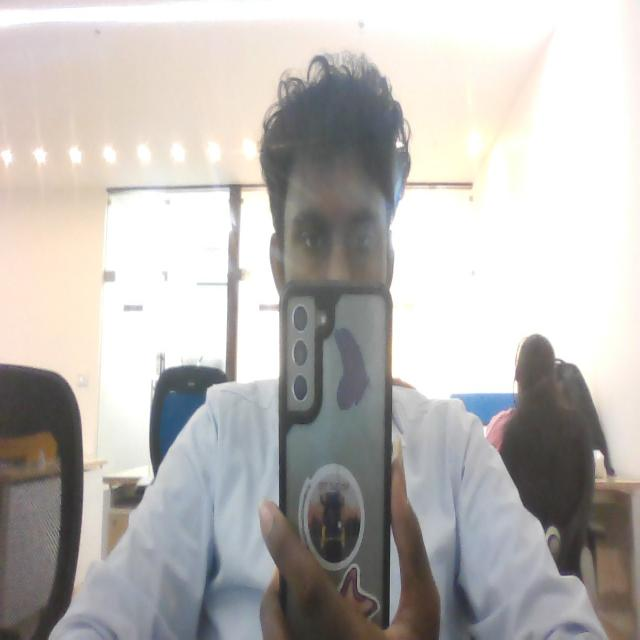phone: (280, 283, 393, 537)
